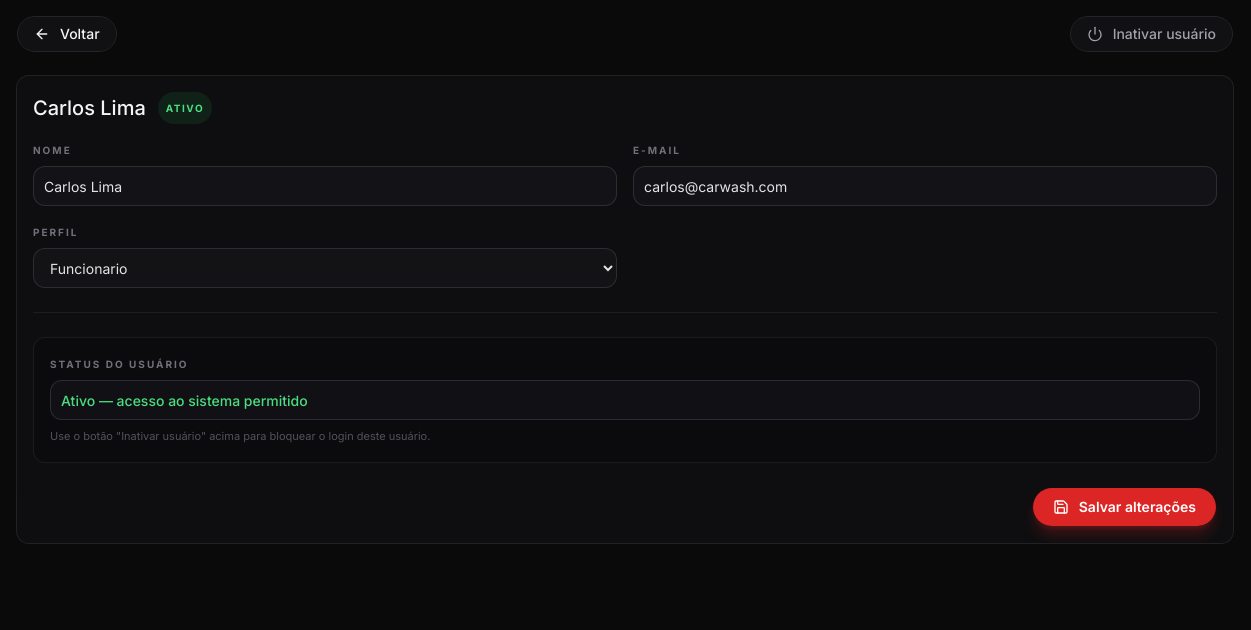
Test case: UsuarioDetalhePage (RF014) — editar e salvar › 12b. erro no PUT exibe alerta de falha ao atualizar
Check: the field showing "Carlos Lima" is shown, box [33, 166, 617, 206]
Click the button "Salvar alterações" at (1124, 507), box [1032, 487, 1217, 527]
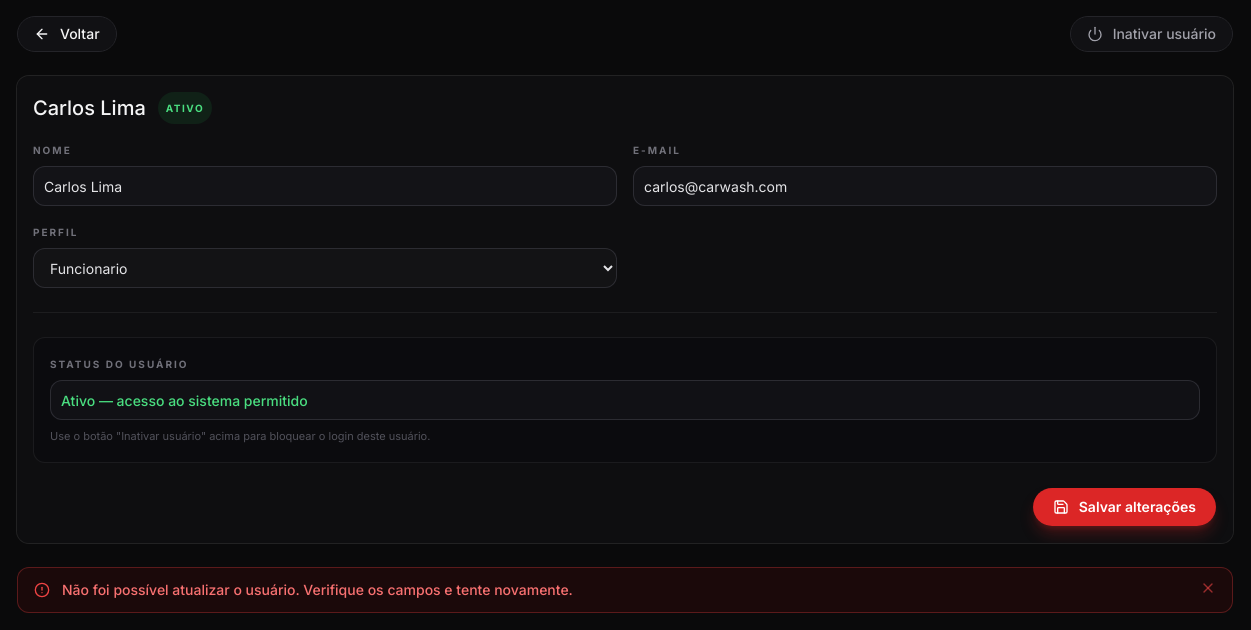
Check: the message reads "Não foi possível atualizar o usuário. Verifique os campos e tente novamente.", box [62, 581, 573, 598]
